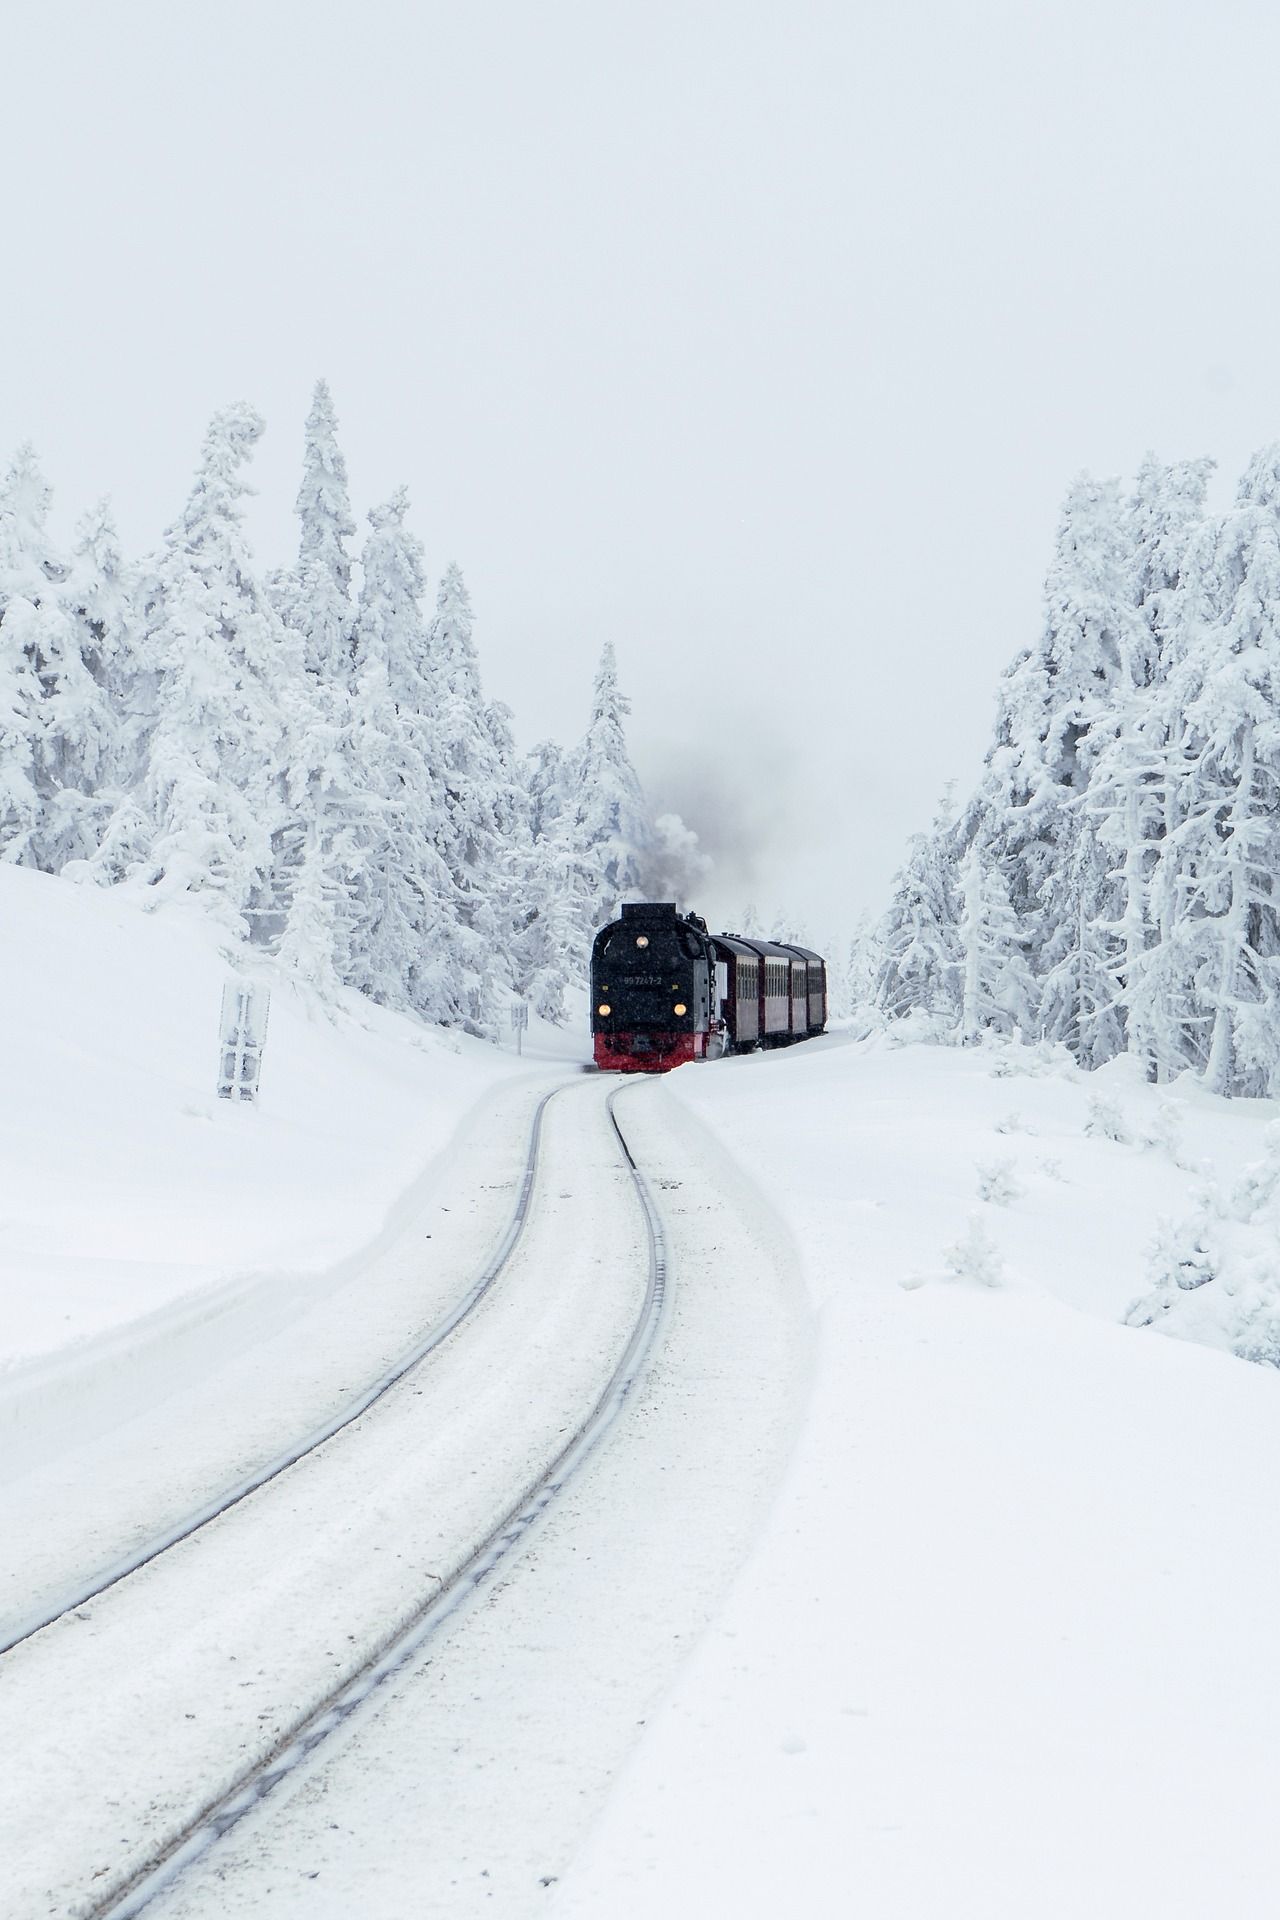train1: (589, 899, 830, 1073)
